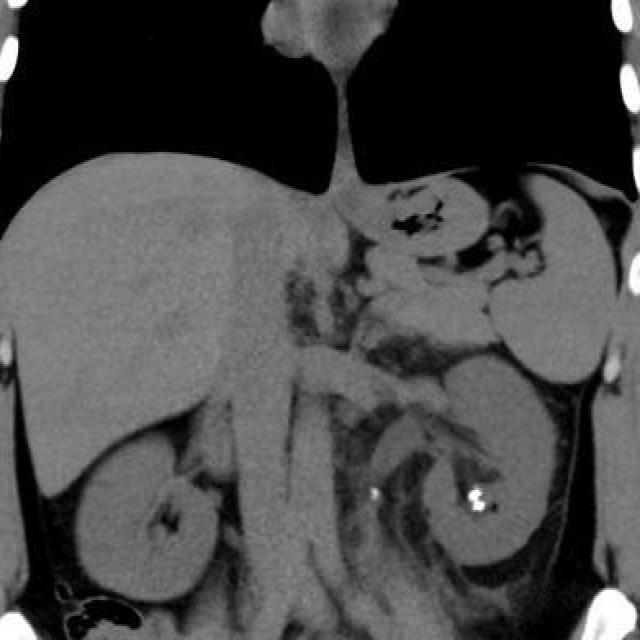Tas_Var: (466, 484, 485, 502), (364, 483, 382, 501), (468, 503, 488, 515)
